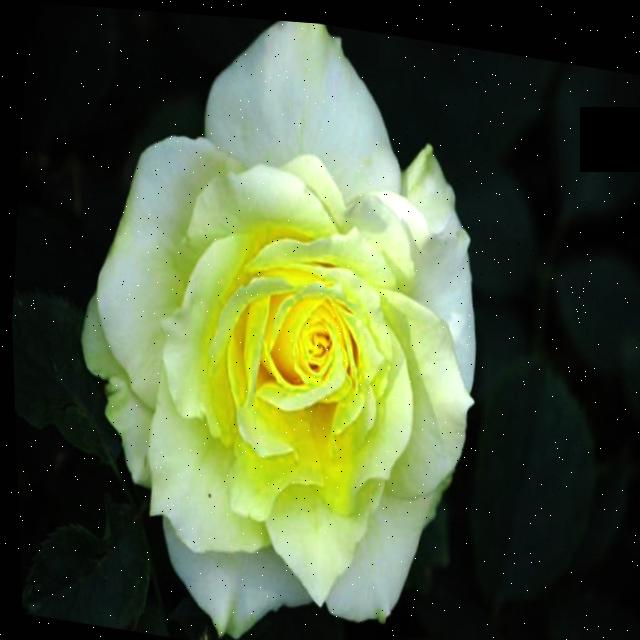rose: (44, 3, 523, 640)
